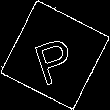P_N: (29, 25, 81, 85)
